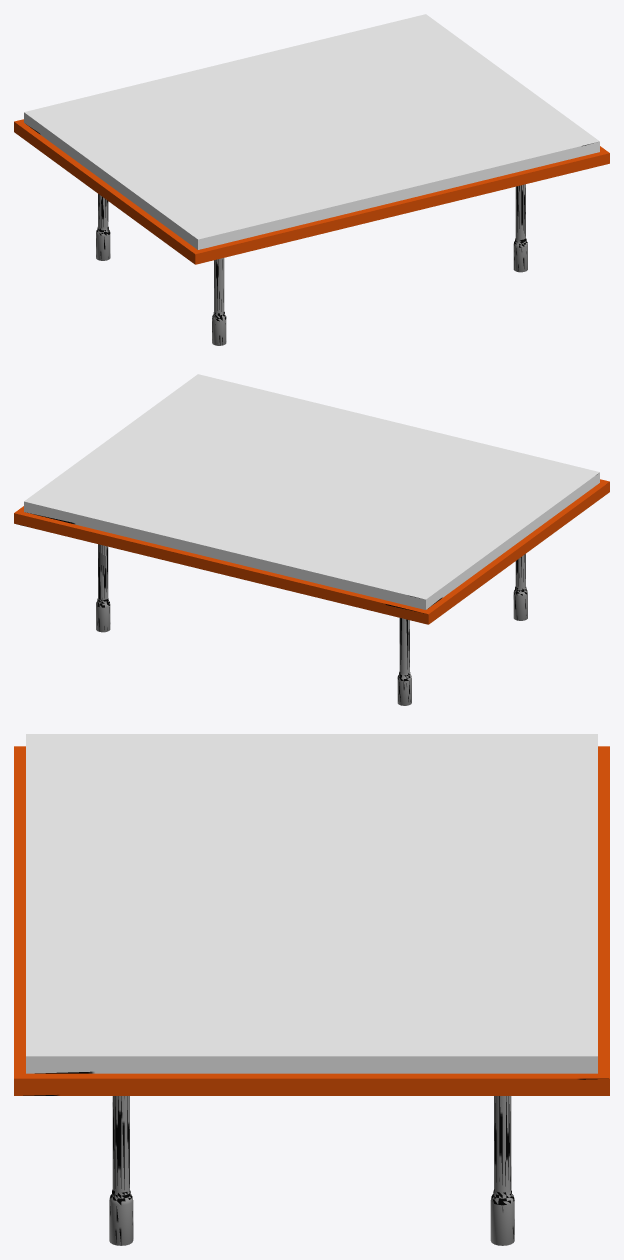
Rendered from station-canopy-authored-atlas.glb.
The picture shows the model from 3 angles, top to bottom: view 1: azimuth 30°, elevation 25°; view 2: azimuth 150°, elevation 25°; view 3: azimuth 270°, elevation 25°; orthographic projection. The views are drawn at different scales.
Parts seen in each view (by area): view 1: Authored surface.015; view 2: Authored surface.015; view 3: Authored surface.015.
Part boxes in pixels (<box>): Authored surface.015: <box>14,14,609,345</box>; Authored surface.015: <box>14,374,609,705</box>; Authored surface.015: <box>14,734,609,1245</box>.
Bounding box in the file's own units: 16.5 × 5.2 × 12.5.
Materials: 1 (1 with a texture image).
